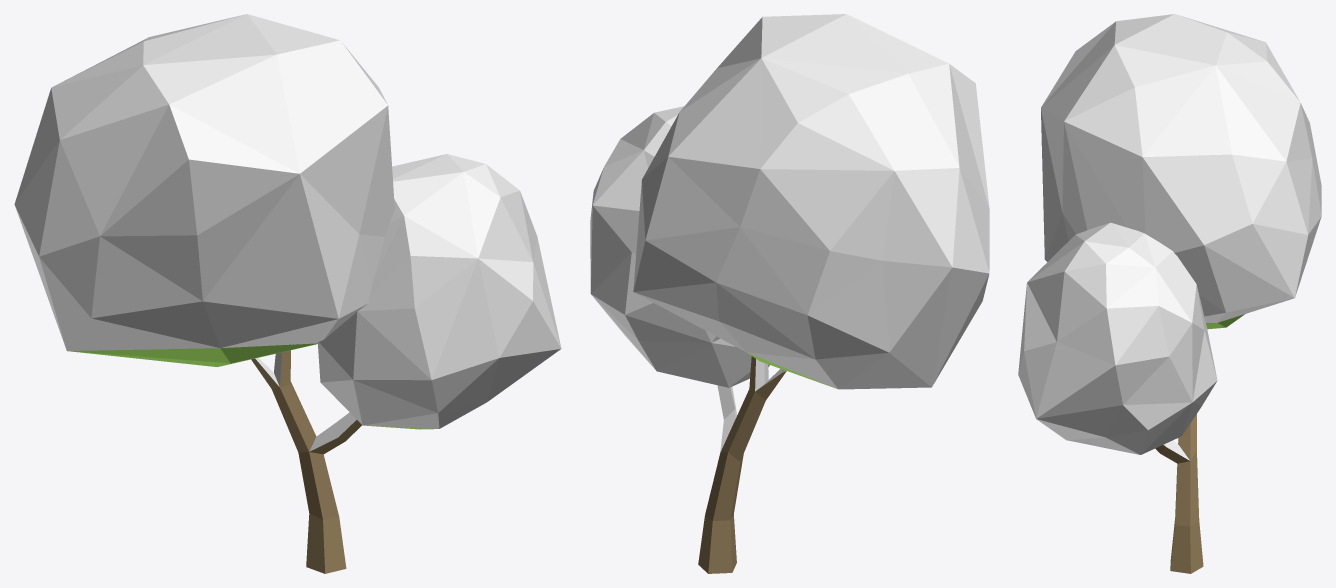
The model's file is Apple_Tree_m_Snow_06.fbx.
3 views of the same model, side by side, from view 1: azimuth 30°, elevation 25°; view 2: azimuth 150°, elevation 25°; view 3: azimuth 270°, elevation 25° (orthographic). The views are drawn at different scales.
Visible parts, largest first — view 1: Apple_Tree_m_Snow_06; view 2: Apple_Tree_m_Snow_06; view 3: Apple_Tree_m_Snow_06.
Part boxes in pixels (x1=…): Apple_Tree_m_Snow_06: x1=14, y1=14, x2=561, y2=573; Apple_Tree_m_Snow_06: x1=590, y1=14, x2=989, y2=573; Apple_Tree_m_Snow_06: x1=1018, y1=14, x2=1321, y2=573.
Size of the model in its own units: 620 by 736 by 419.
